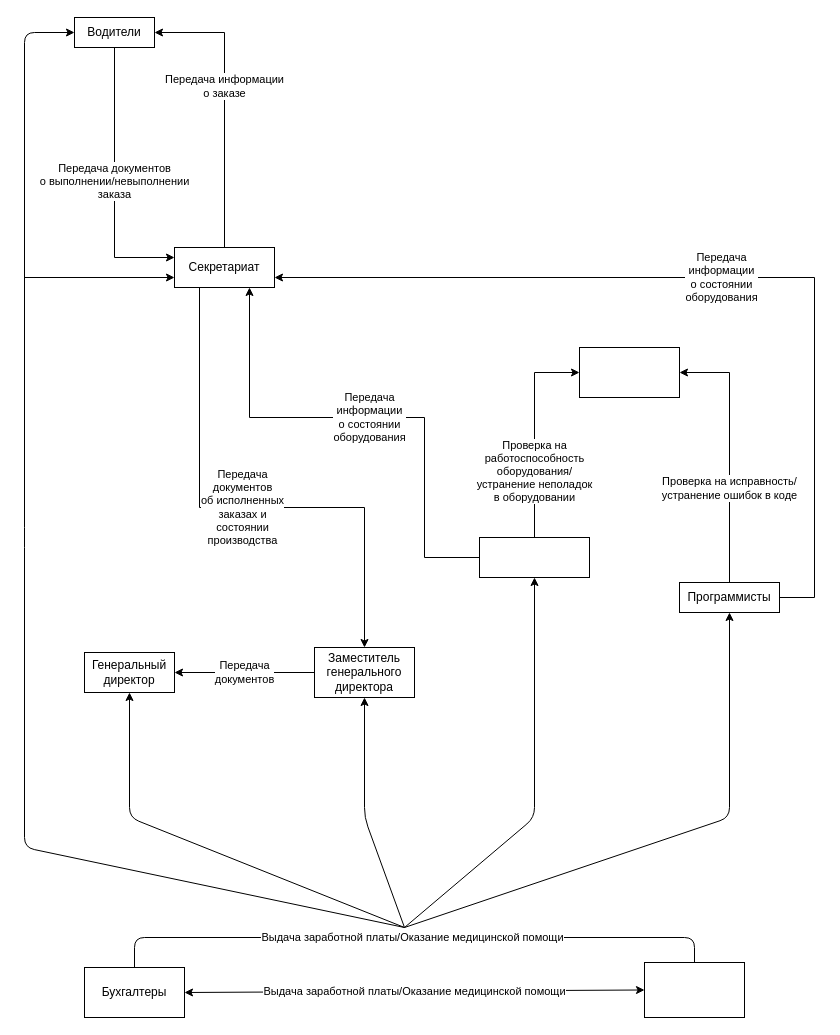
The diagram is 840 pixels wide and 1035 high, and some of its shapes have lost their labels. Each missing label, with the centre of its shape:
"Машинное оборудование" goes at point 629,372.
"Санчасть (медчасть)" goes at point 694,990.
"Эксплуататоры оборудования" goes at point 534,557.
